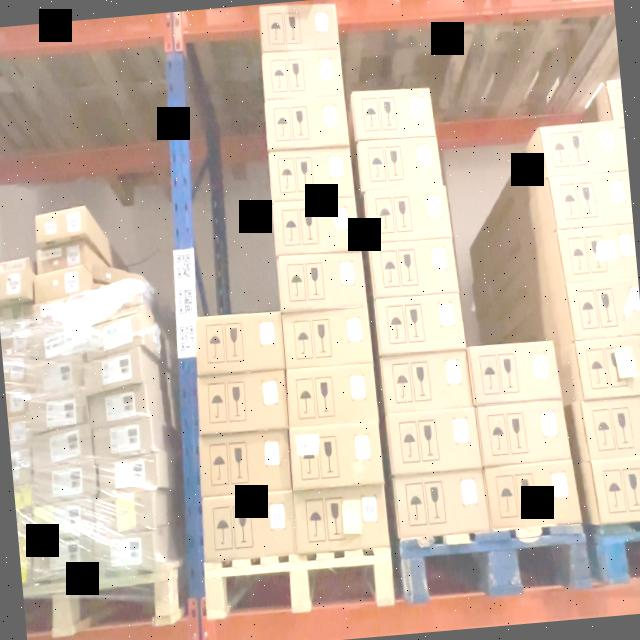box: (200, 490, 297, 560), (485, 459, 580, 526), (393, 471, 488, 538), (386, 407, 481, 474), (290, 421, 383, 488), (198, 428, 291, 495), (476, 400, 570, 466), (293, 485, 388, 550), (197, 368, 288, 434), (194, 310, 285, 375), (380, 351, 472, 414), (468, 340, 559, 403), (285, 364, 377, 426), (374, 293, 464, 354), (282, 306, 372, 367), (278, 251, 367, 311), (370, 237, 458, 297), (272, 196, 359, 255), (548, 171, 633, 230), (540, 120, 628, 176), (556, 223, 637, 283), (365, 186, 451, 242), (566, 277, 640, 341), (357, 135, 443, 190), (264, 95, 348, 151), (268, 146, 353, 201), (350, 87, 434, 141), (262, 50, 344, 99), (260, 3, 339, 53), (33, 424, 92, 470), (85, 346, 141, 394), (83, 311, 142, 356), (98, 451, 157, 496), (34, 463, 97, 504), (34, 500, 95, 542), (31, 539, 93, 580), (29, 389, 88, 432), (94, 530, 156, 570), (95, 414, 154, 455), (94, 491, 154, 531), (90, 382, 148, 423), (32, 353, 83, 393), (85, 284, 143, 319), (34, 264, 82, 303), (36, 206, 86, 239), (35, 240, 85, 273), (30, 328, 82, 359), (32, 295, 84, 324), (91, 264, 140, 282)
